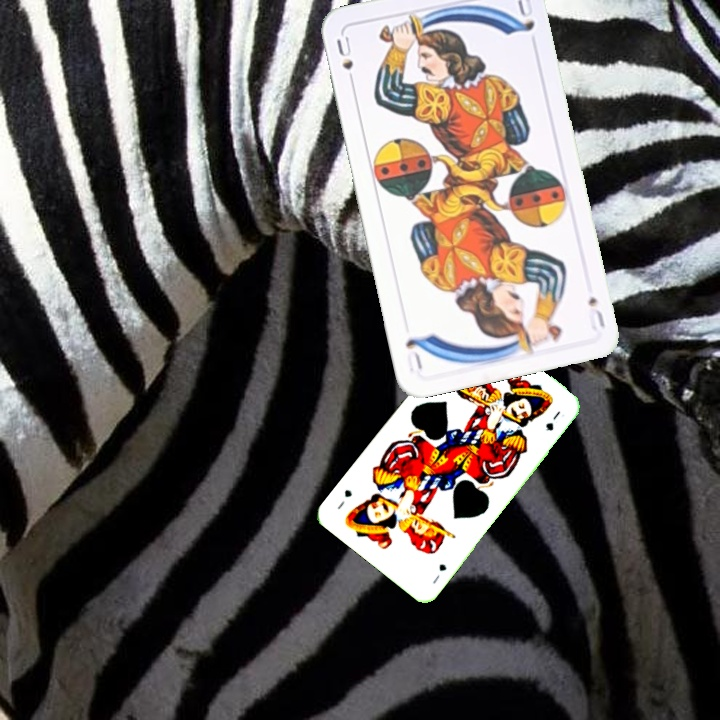GU: (429, 560, 449, 586)
SU: (332, 32, 358, 90), (584, 292, 608, 333)
